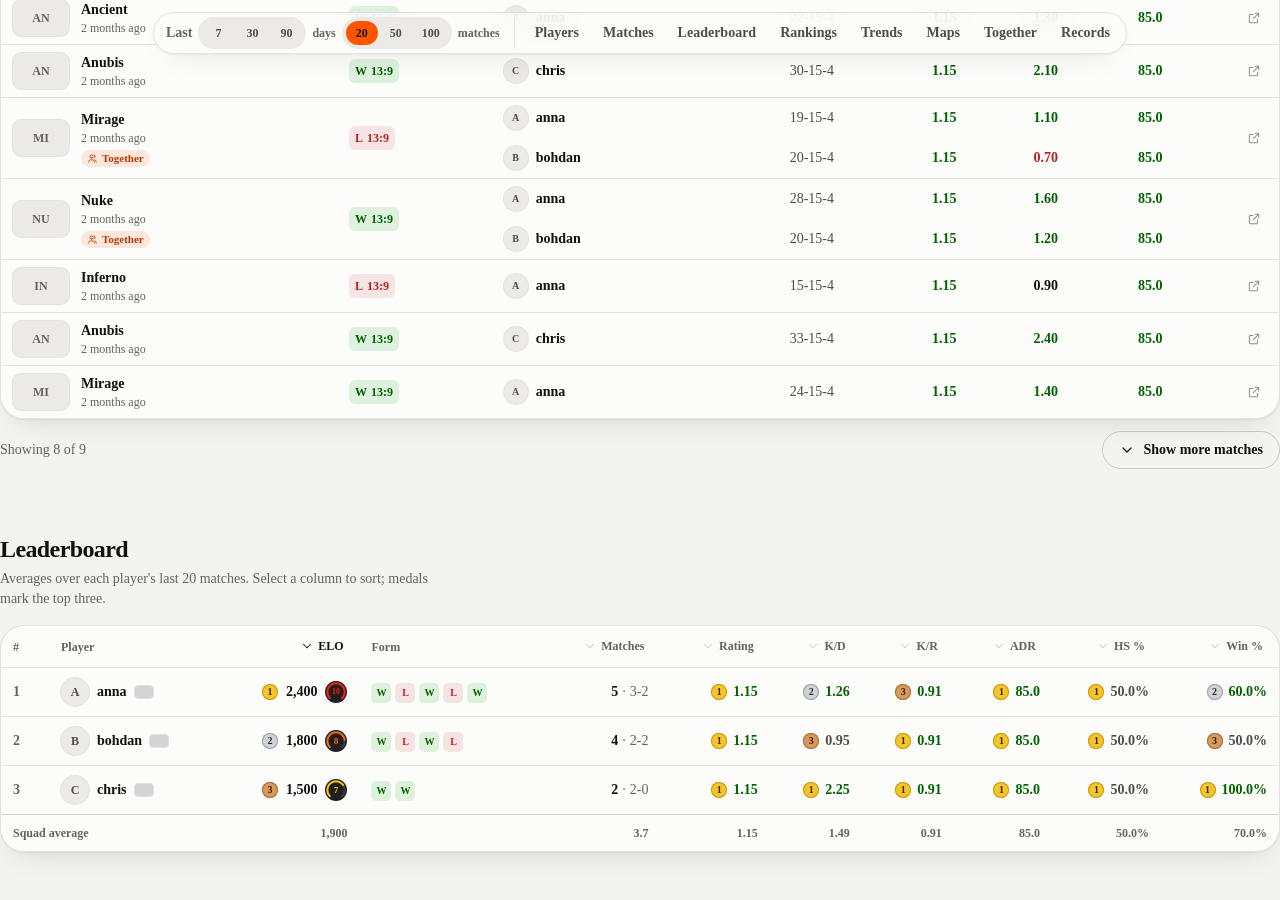
Scenario: Dashboard › lists recent matches once, with everyone who played them
(page scrolled)
Check: the text "Showing 8 of 9" is shown, box x1=0 y1=440 x2=86 y2=460
Check: the text "Together" is shown 2 times, box x1=102 y1=151 x2=144 y2=166; x1=102 y1=232 x2=144 y2=247
Click the button "Show more matches". click: coordinates (1191, 450)
box: x1=1102 y1=432 x2=1279 y2=470
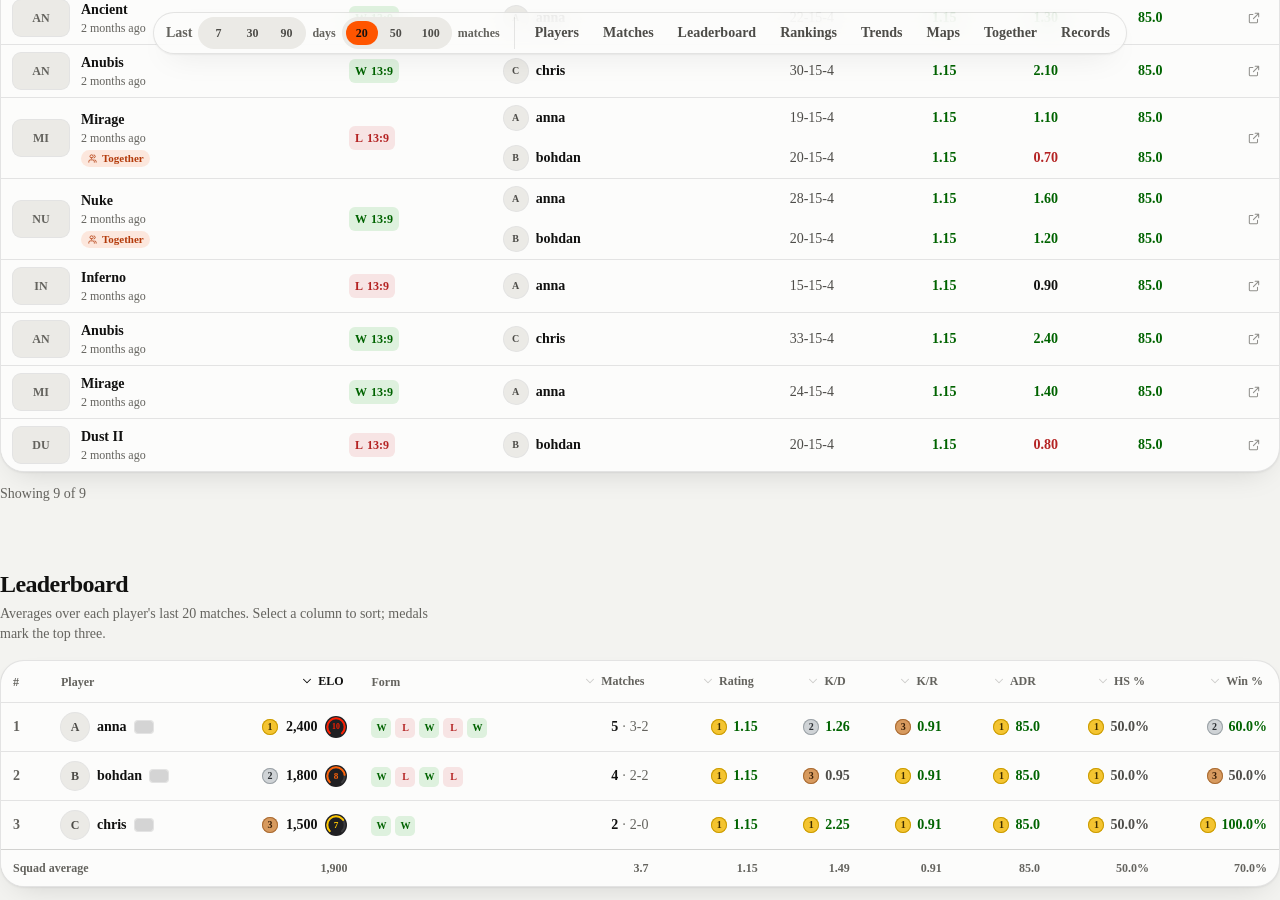
Check: the text "Showing 9 of 9" is shown, box x1=0 y1=484 x2=86 y2=504
Check: the button "Show more matches" is gone
